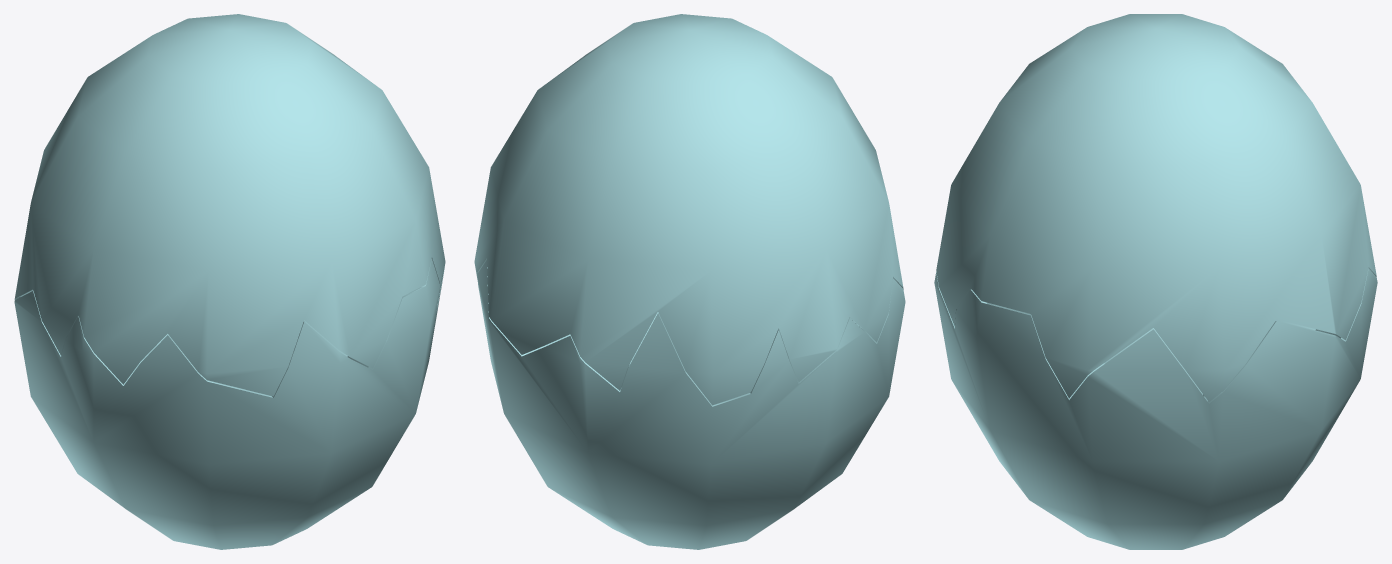
The model's file is eggCracked9.fbx.
The picture shows the model from 3 angles, left to right: view 1: azimuth 30°, elevation 25°; view 2: azimuth 150°, elevation 25°; view 3: azimuth 270°, elevation 25°; orthographic projection.
Visible parts, largest first — view 1: Sphere.001, Sphere; view 2: Sphere.001, Sphere; view 3: Sphere.001, Sphere.
Boxes of the visible parts, x1,y1,x2,y2 form: Sphere.001: (14,14,445,396); Sphere: (14,259,444,549); Sphere.001: (474,14,903,405); Sphere: (477,260,905,549); Sphere.001: (936,14,1376,401); Sphere: (934,268,1377,549).
Size of the model in its own units: 190 by 252 by 200.
